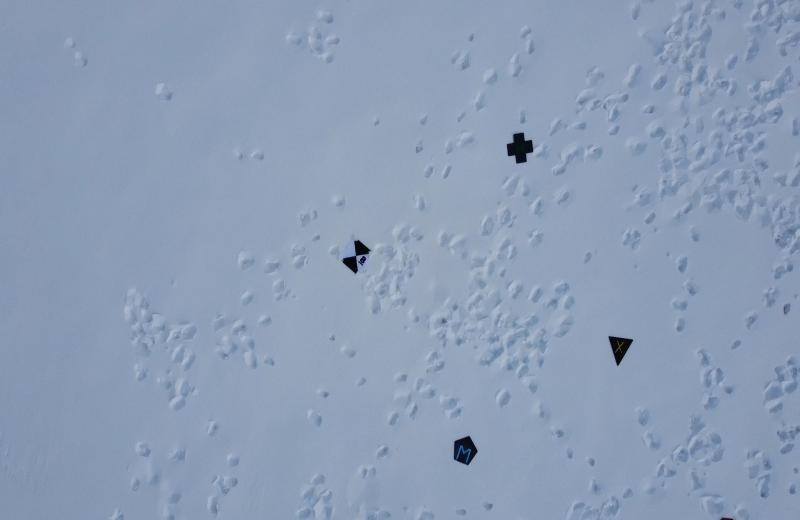Cross: (505, 129, 536, 164)
Pentagon: (449, 431, 481, 467)
Triangle: (602, 326, 637, 368)
